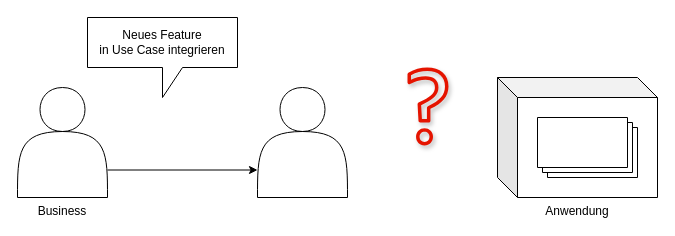
Some shapes in this 675 by 236 pixel diagram are drawn without their labels. Each missing label, with the centre of its shape:
Services: (587,147)
Technik: (302,142)
